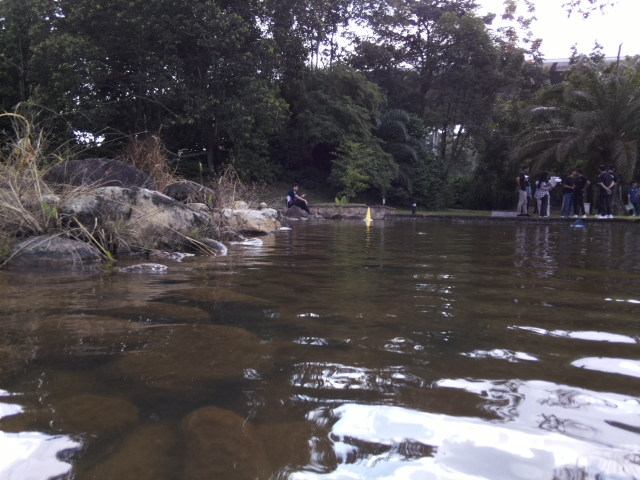checkpoint: (362, 206, 375, 223)
